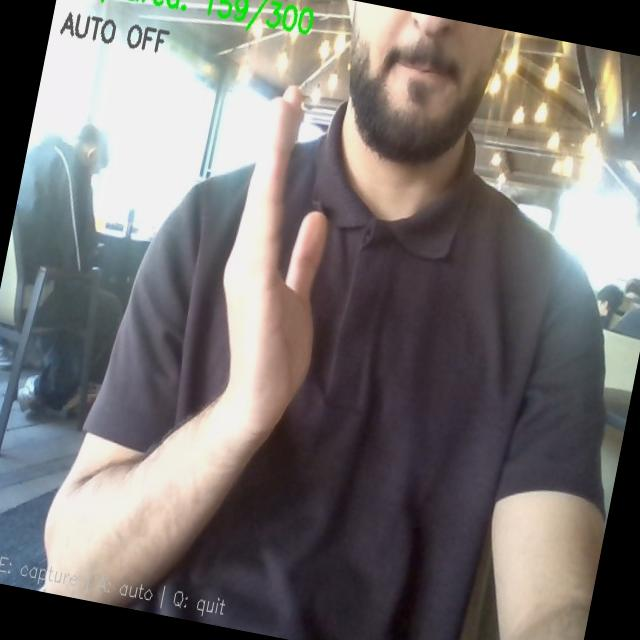Hand: (224, 86, 327, 436)
